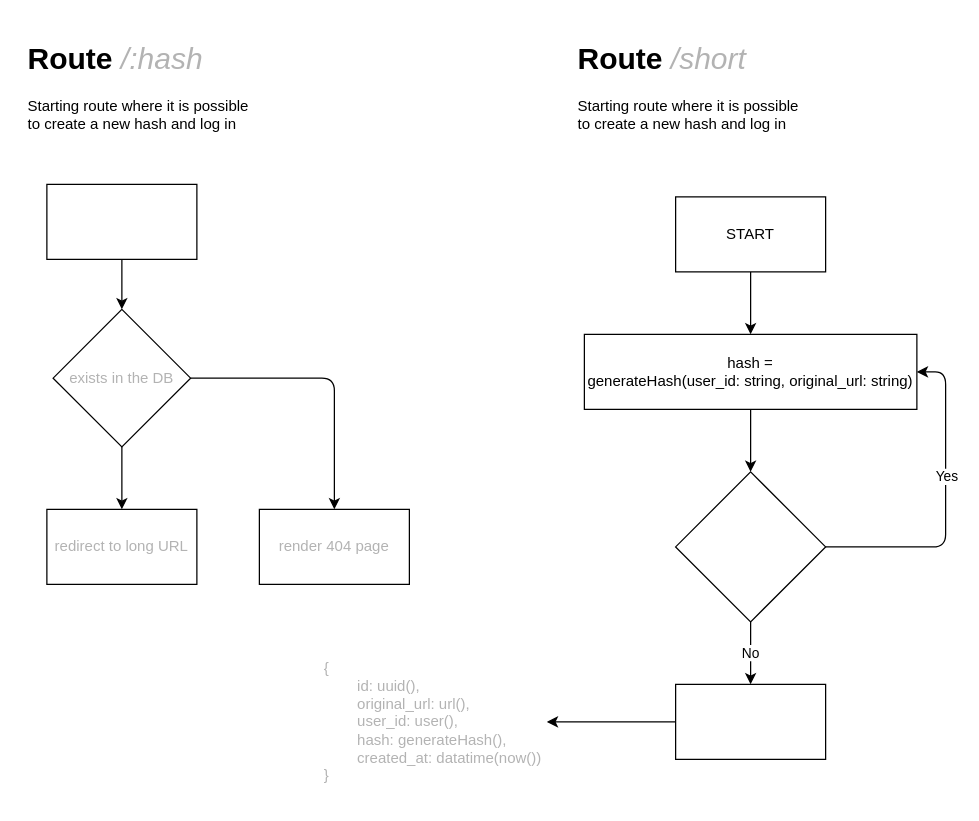
This 979x821 diagram has some shape labels left out. Each missing label, with the centre of its shape:
"/:hash" goes at (121,221).
"is hash already on database?" goes at (750,546).
"Save on DB" goes at (750,721).
